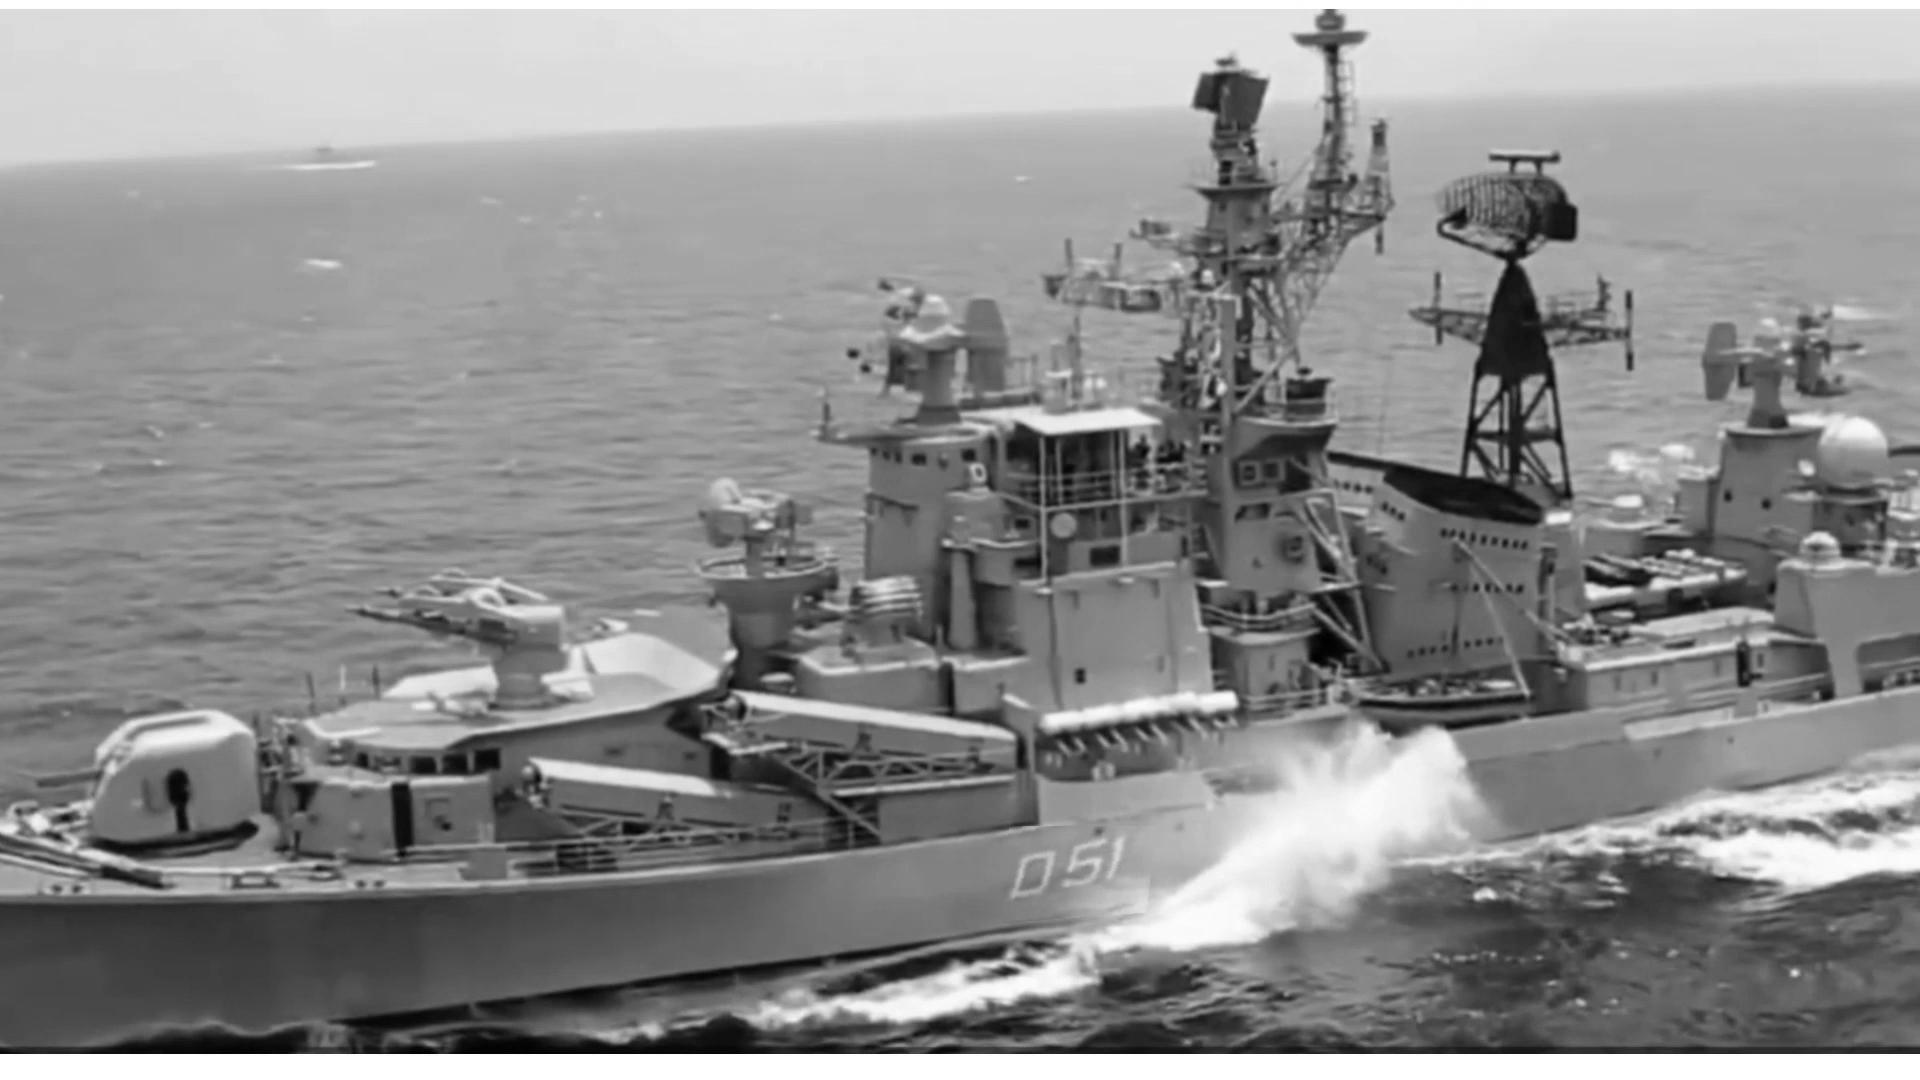OCR: (1002, 825, 1156, 924)
